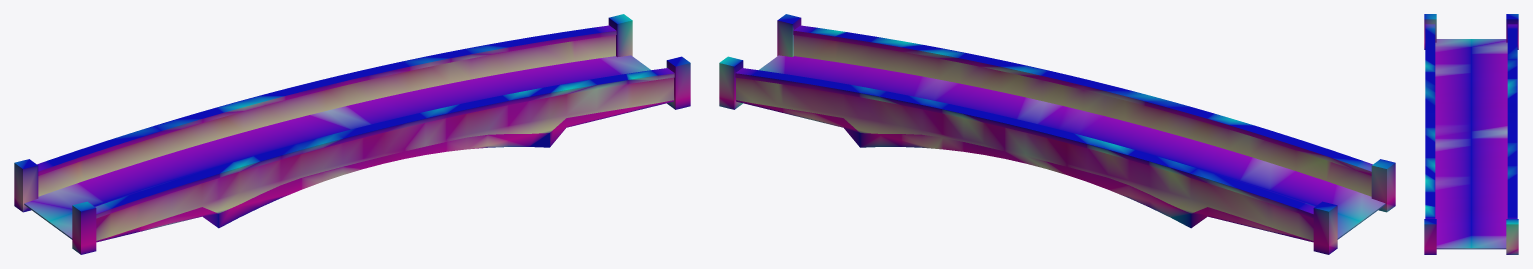
File: bridge_stone.glb
3 views of the same model, side by side, from view 1: azimuth 30°, elevation 25°; view 2: azimuth 150°, elevation 25°; view 3: azimuth 270°, elevation 25° (orthographic). The views are drawn at different scales.
Visible parts, largest first — view 1: bridge_stone; view 2: bridge_stone; view 3: bridge_stone.
Part boxes in pixels (x1,y1,x2,y2): bridge_stone: [14, 14, 690, 254]; bridge_stone: [719, 14, 1395, 254]; bridge_stone: [1424, 14, 1518, 254].
Size of the model in its own units: 22.1 by 2.1 by 4.2.
